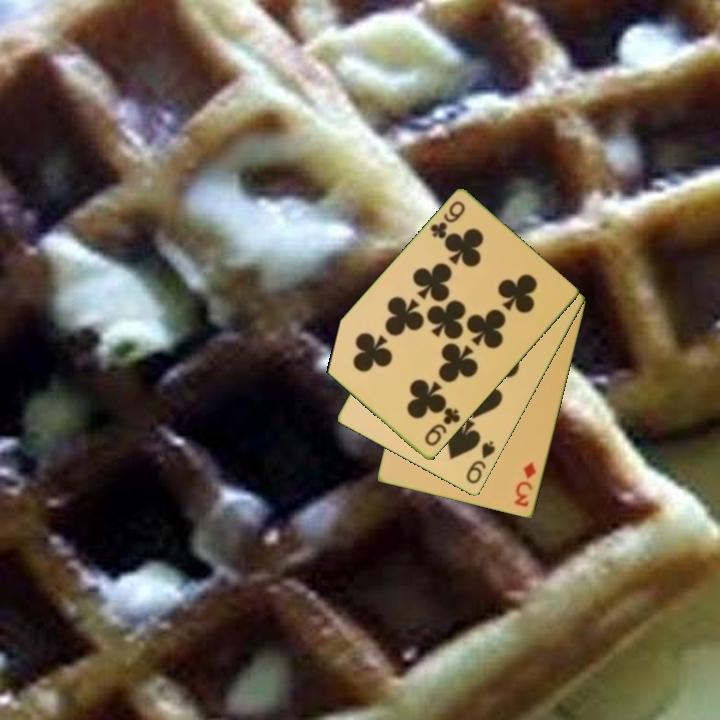3d: (511, 459, 539, 510)
9c: (421, 404, 463, 449), (427, 197, 468, 242)
9s: (462, 437, 499, 487)
